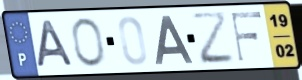0: (117, 15, 149, 68)
A: (154, 13, 196, 66), (35, 18, 76, 70)
F: (229, 10, 264, 64)
O: (70, 16, 108, 69)
Z: (189, 9, 238, 67)
